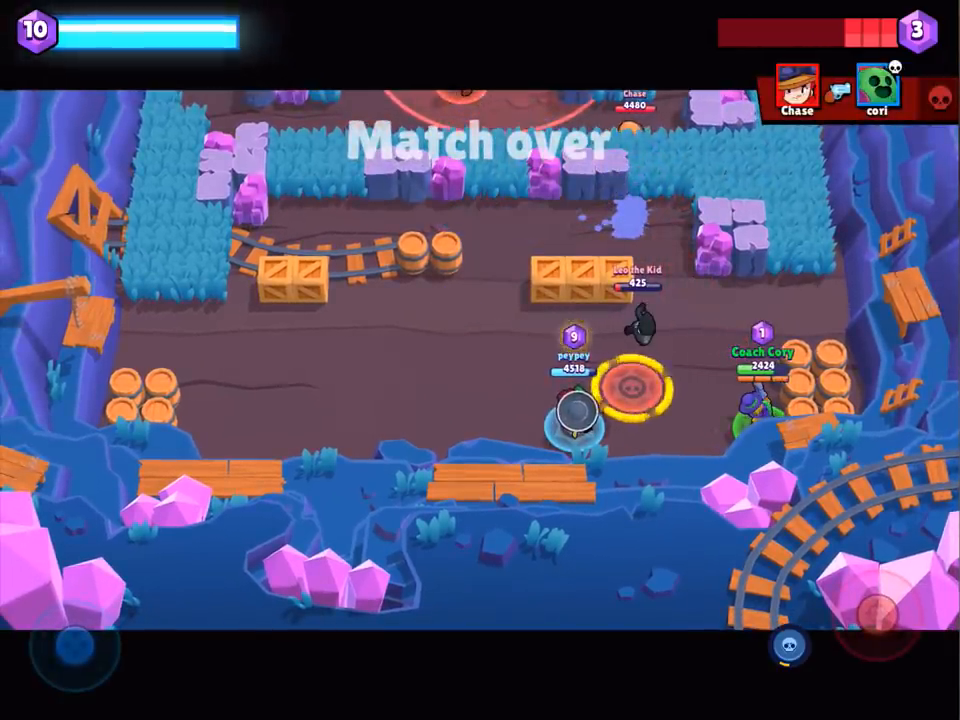move_stick: (55, 626, 99, 662)
red: (613, 94, 662, 165), (429, 88, 513, 113)
